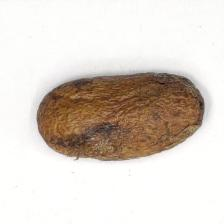NG: (38, 73, 203, 159)
